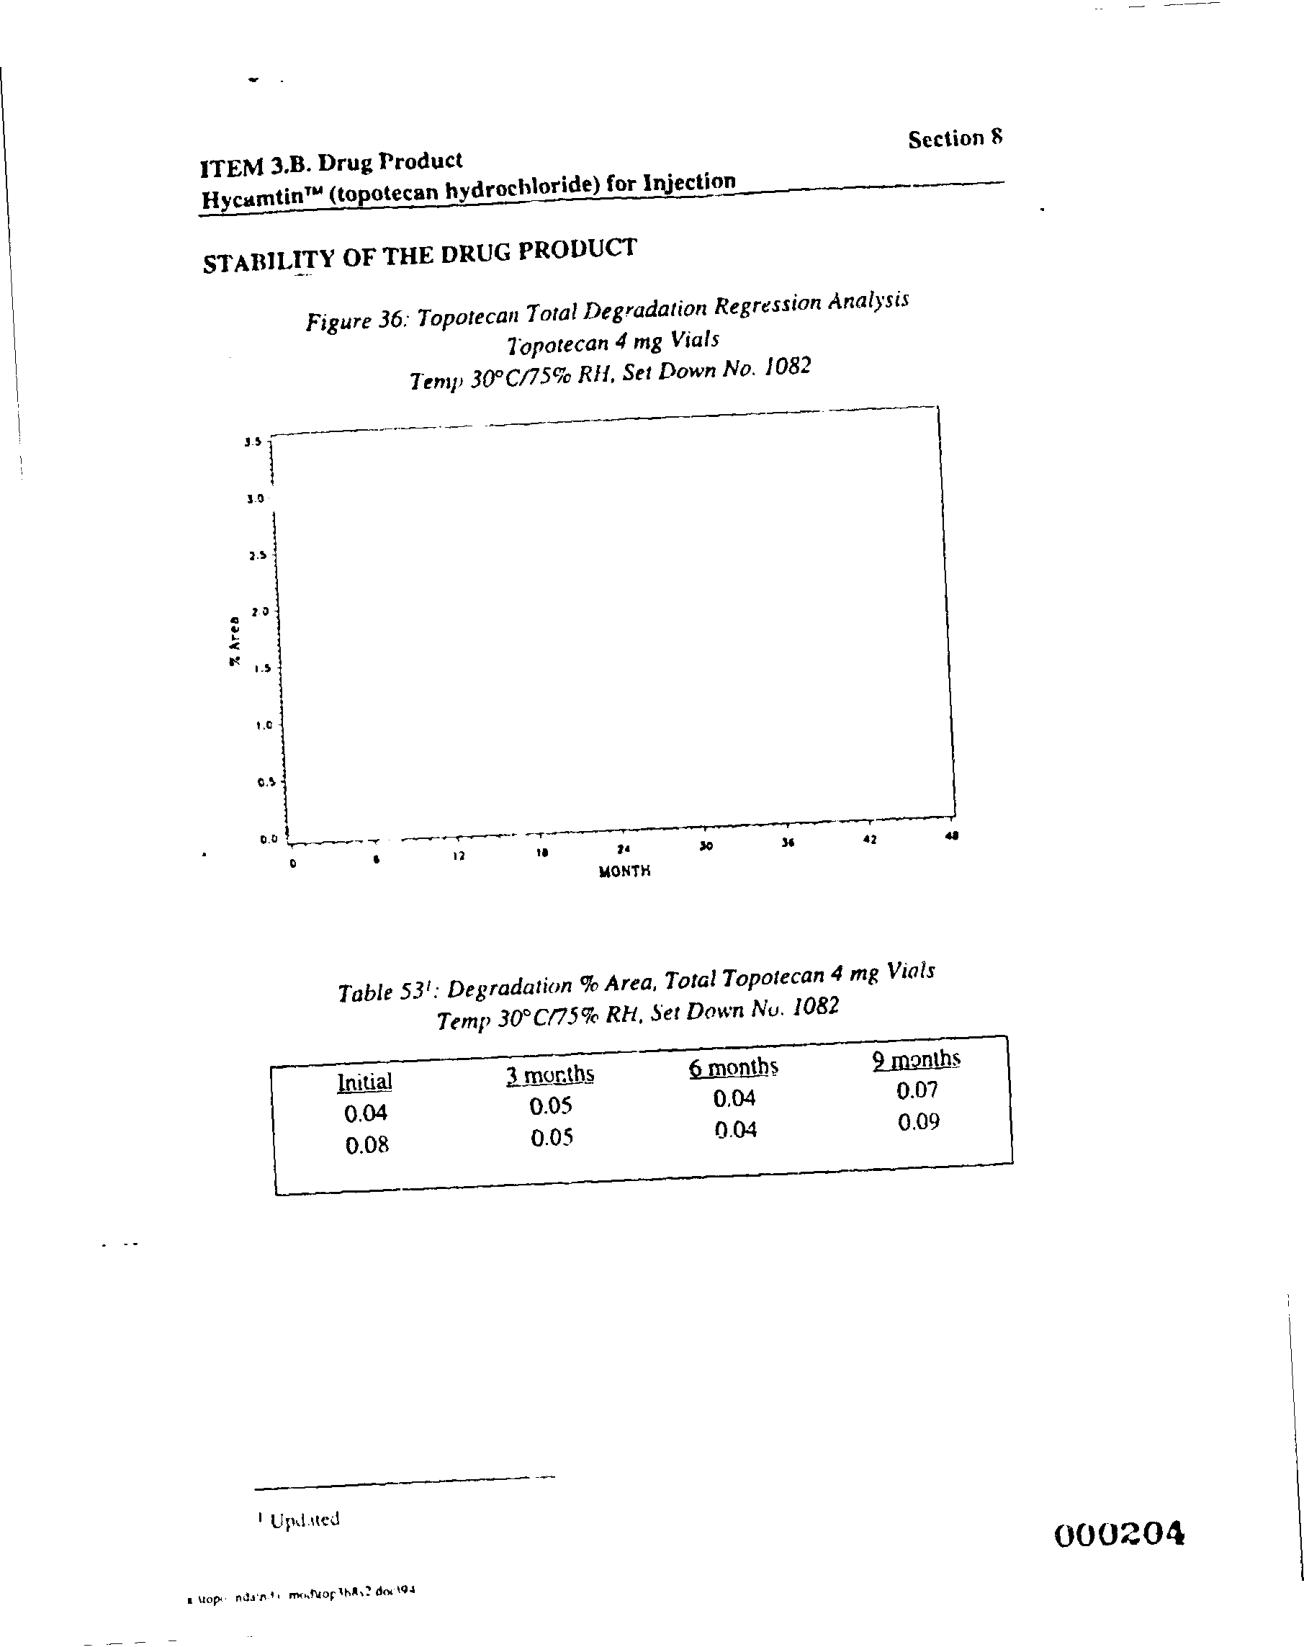partial_lined: (269, 1033, 1016, 1200)
